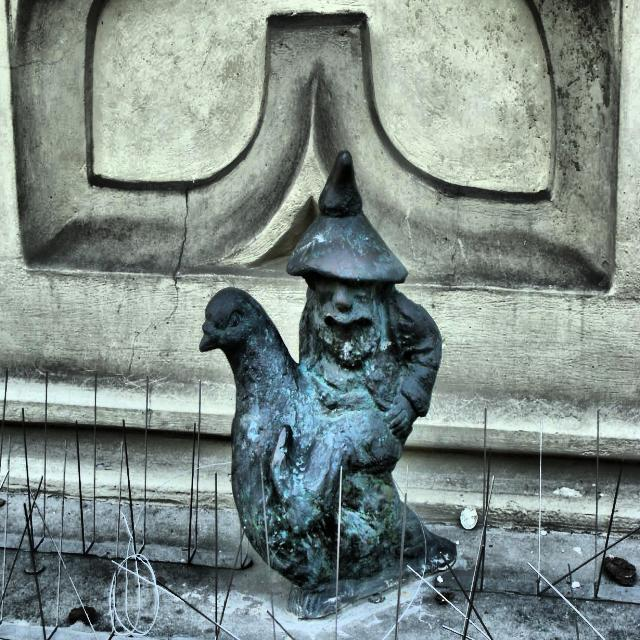Golebnik: (198, 152, 456, 622)
